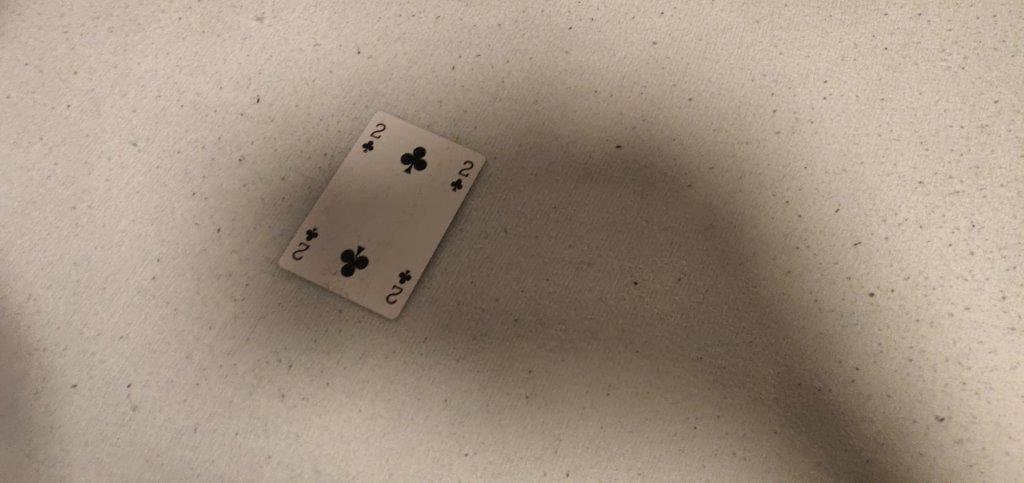2C: (449, 159, 475, 195), (361, 121, 386, 156)
